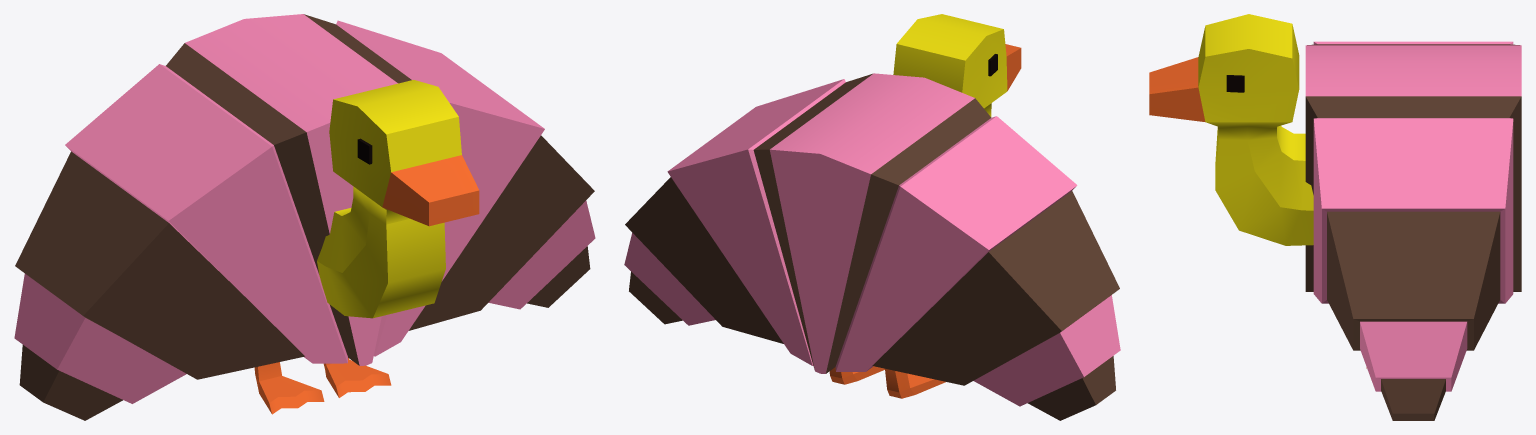
Rendered from Bambini_Crossini.fbx.
The picture shows the model from 3 angles, left to right: view 1: azimuth 30°, elevation 25°; view 2: azimuth 150°, elevation 25°; view 3: azimuth 270°, elevation 25°; orthographic projection. The views are drawn at different scales.
Parts seen in each view (by area): view 1: Bambini_Crossini; view 2: Bambini_Crossini; view 3: Bambini_Crossini.
Part boxes in pixels (x1=…): Bambini_Crossini: x1=14, y1=14, x2=595, y2=420; Bambini_Crossini: x1=624, y1=14, x2=1120, y2=420; Bambini_Crossini: x1=1149, y1=14, x2=1521, y2=420.
Size of the model in its own units: 1.89 by 1.16 by 1.26.
